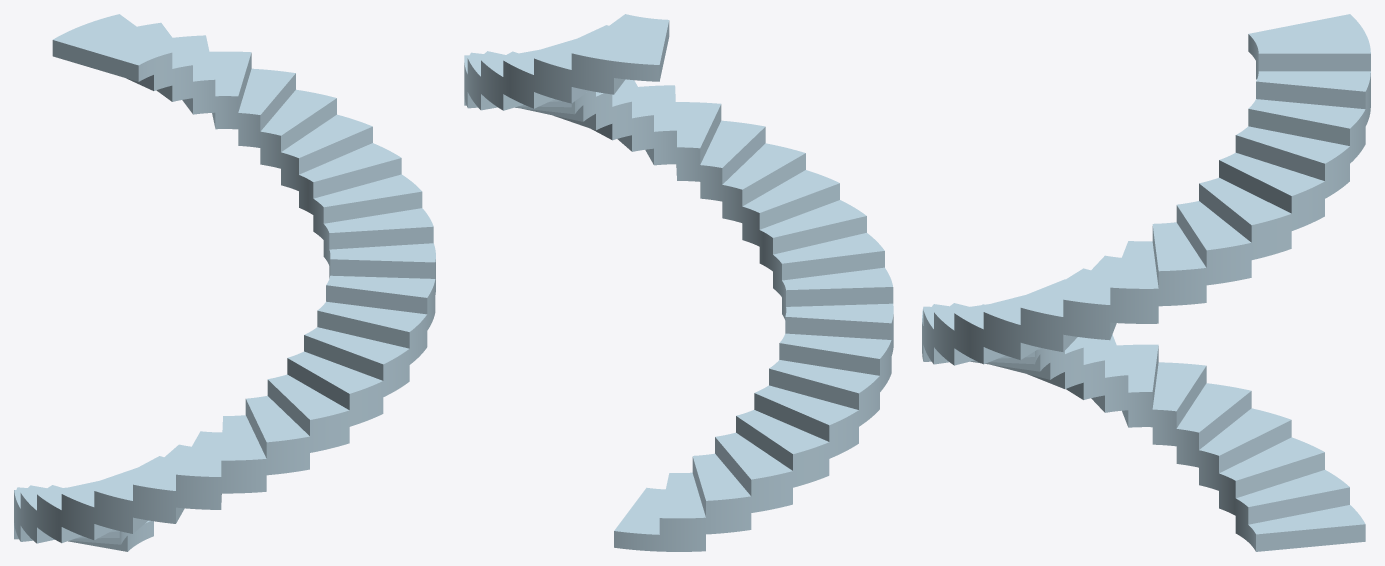
The model's file is StairCase - Copy.gltf.
The picture shows the model from 3 angles, left to right: view 1: azimuth 30°, elevation 25°; view 2: azimuth 150°, elevation 25°; view 3: azimuth 270°, elevation 25°; orthographic projection. The views are drawn at different scales.
Parts seen in each view (by area): view 1: Part 1; view 2: Part 1; view 3: Part 1.
Boxes of the visible parts, x1,y1,x2,y2 form: Part 1: (14,14,435,551); Part 1: (464,14,893,551); Part 1: (922,14,1370,551).
Bounding box in the file's own units: 4 × 5 × 4.
